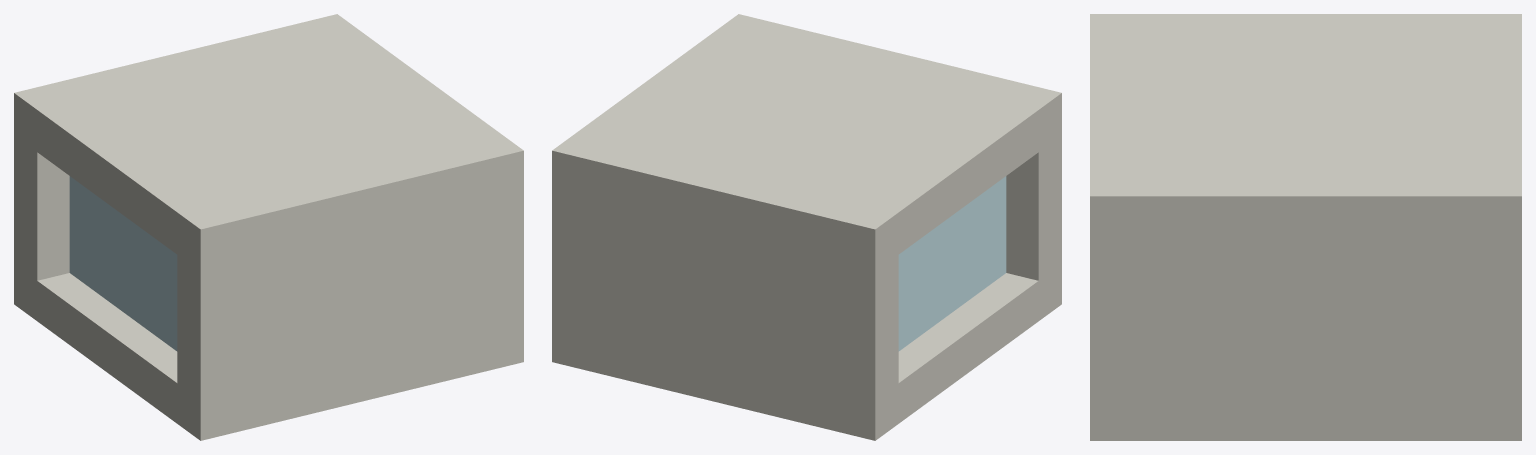
File: modularBuildings_040.glb
3 views of the same model, side by side, from view 1: azimuth 30°, elevation 25°; view 2: azimuth 150°, elevation 25°; view 3: azimuth 270°, elevation 25° (orthographic). The views are drawn at different scales.
Visible parts, largest first — view 1: Mesh1 Group1 Model; view 2: Mesh1 Group1 Model; view 3: Mesh1 Group1 Model.
Boxes of the visible parts, bbox=[...] form: Mesh1 Group1 Model: bbox=[14, 14, 523, 440]; Mesh1 Group1 Model: bbox=[552, 14, 1061, 440]; Mesh1 Group1 Model: bbox=[1090, 14, 1521, 440].
Size of the model in its own units: 1 by 0.625 by 1.
